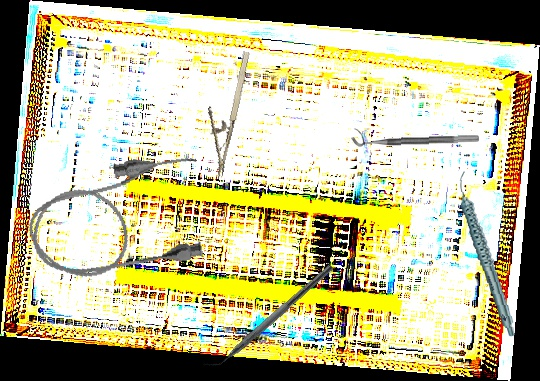Cannula: (18, 146, 217, 292)
Chopper: (201, 255, 335, 379)
Fixation Ring: (350, 123, 480, 148)
Handpiece: (456, 167, 516, 341)
Needle Holder: (192, 46, 254, 178)
